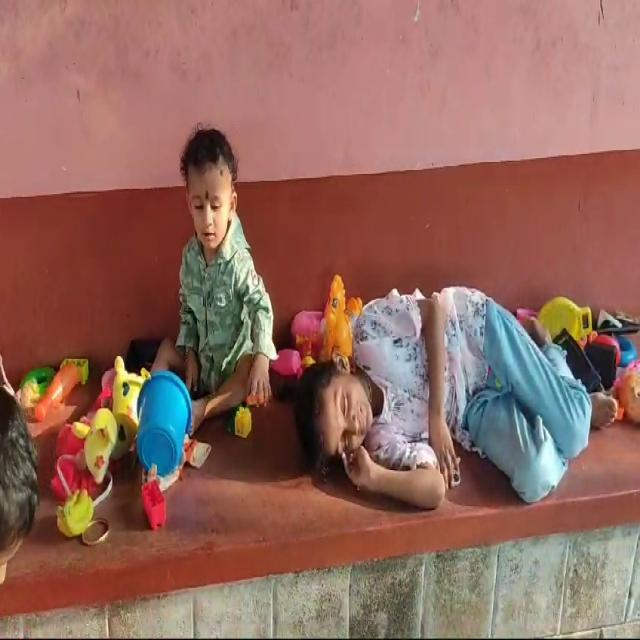child: (298, 271, 632, 528), (134, 75, 286, 513)
